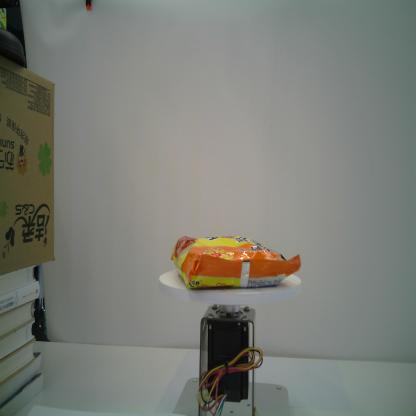Instant Noodles: (171, 235, 301, 288)
